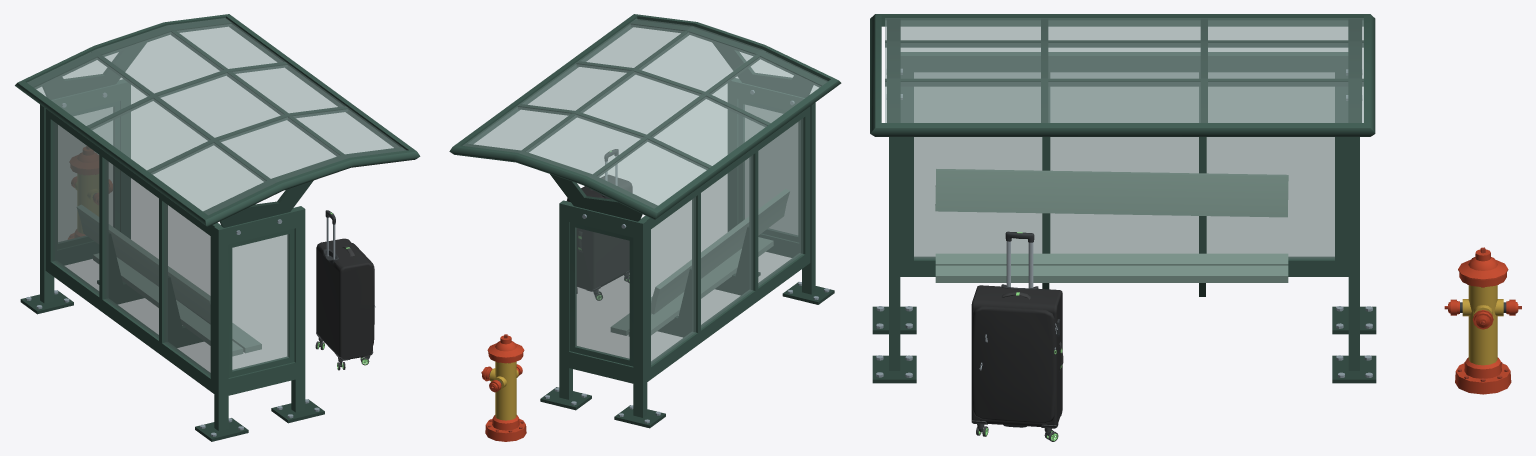
The model's file is Week 11 - bus station.fbx.
3 renders of one model, left to right at view 1: azimuth 30°, elevation 25°; view 2: azimuth 150°, elevation 25°; view 3: azimuth 270°, elevation 25°, orthographic. The views are drawn at different scales.
Visible parts, largest first — view 1: bus_station, luggage, hydrant; view 2: bus_station, luggage, hydrant; view 3: bus_station, luggage, hydrant.
Boxes of the visible parts, left/top/right/bottom form: bus_station: left=15, top=14, right=420, bottom=441; luggage: left=315, top=210, right=375, bottom=370; hydrant: left=68, top=146, right=112, bottom=238; bus_station: left=449, top=14, right=841, bottom=428; luggage: left=567, top=149, right=632, bottom=300; hydrant: left=481, top=334, right=526, bottom=441; bus_station: left=870, top=14, right=1376, bottom=383; luggage: left=971, top=231, right=1063, bottom=441; hydrant: left=1444, top=247, right=1521, bottom=394.
Size of the model in its own units: 13.22 by 14.6 by 26.27.
